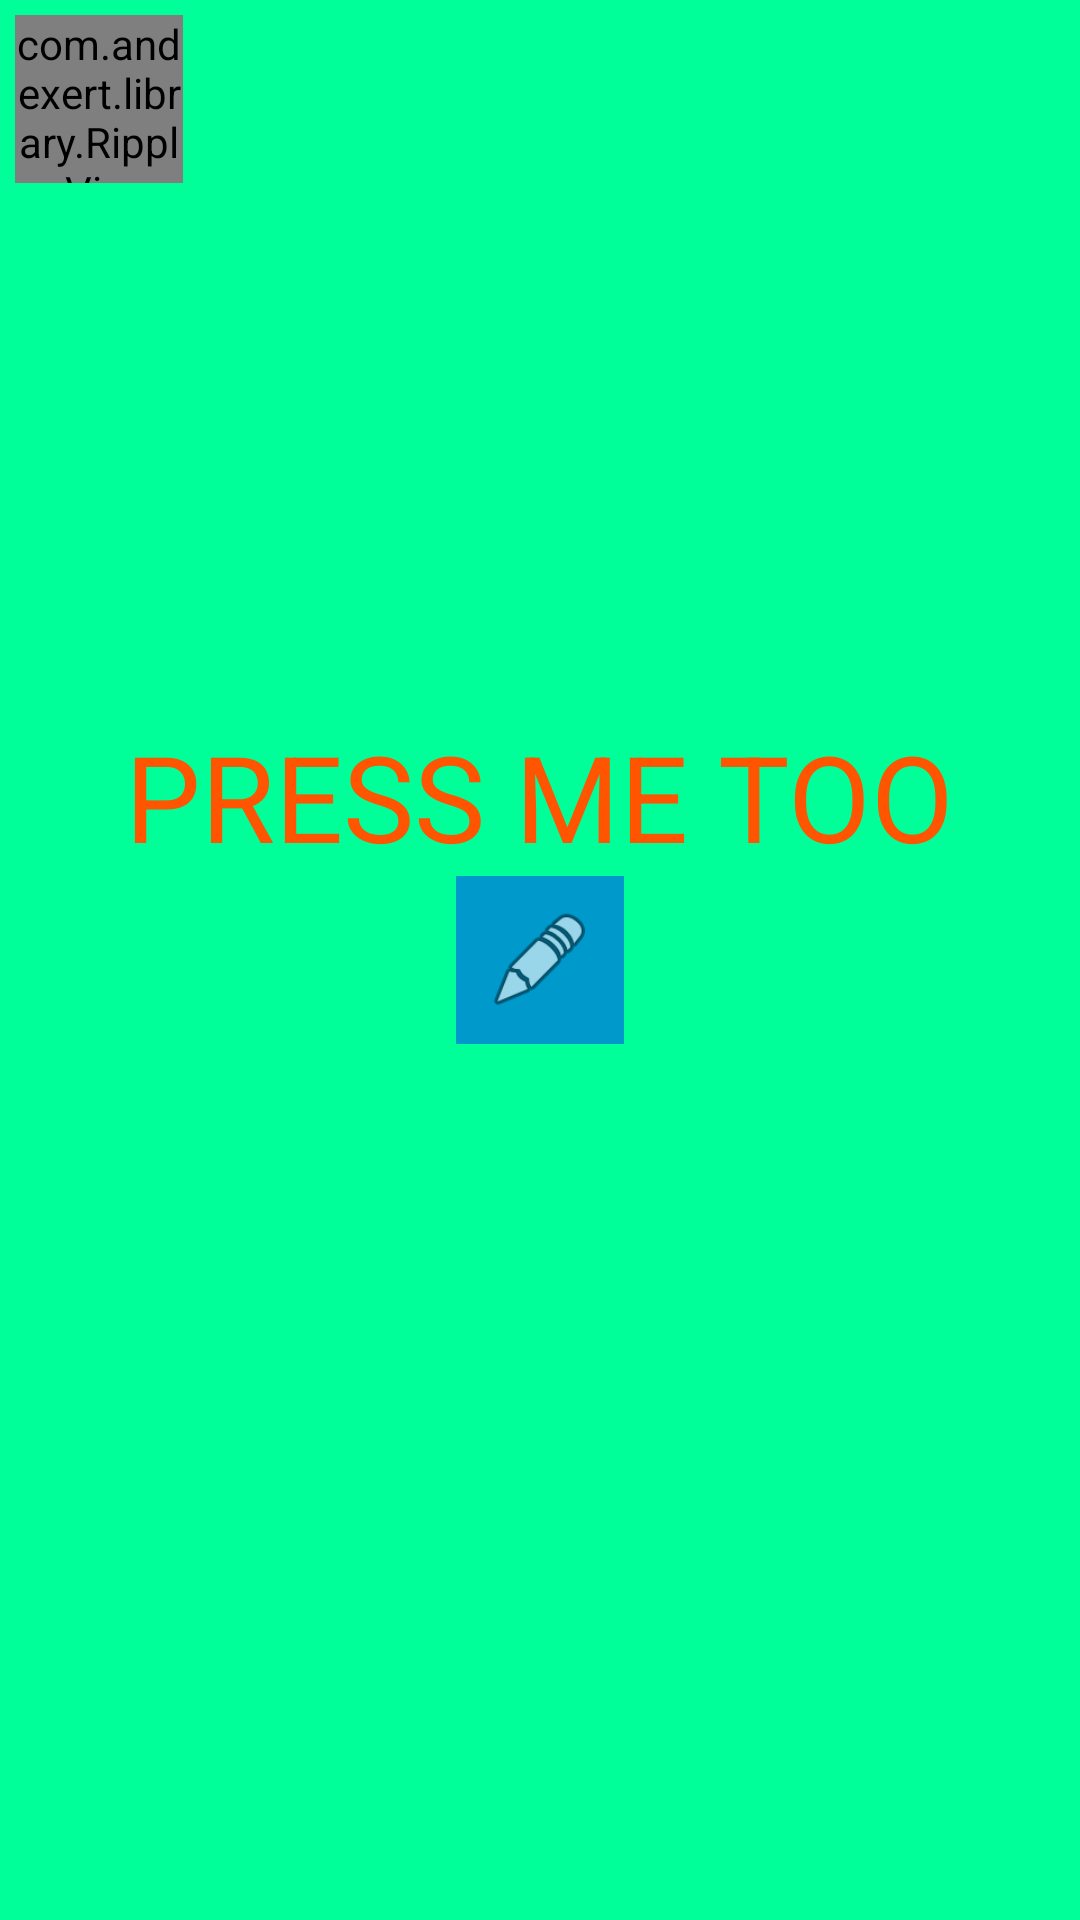

Icon click points for this 1080px×1920px phone screenshot, format [x,y]:
edit: [540,960]
